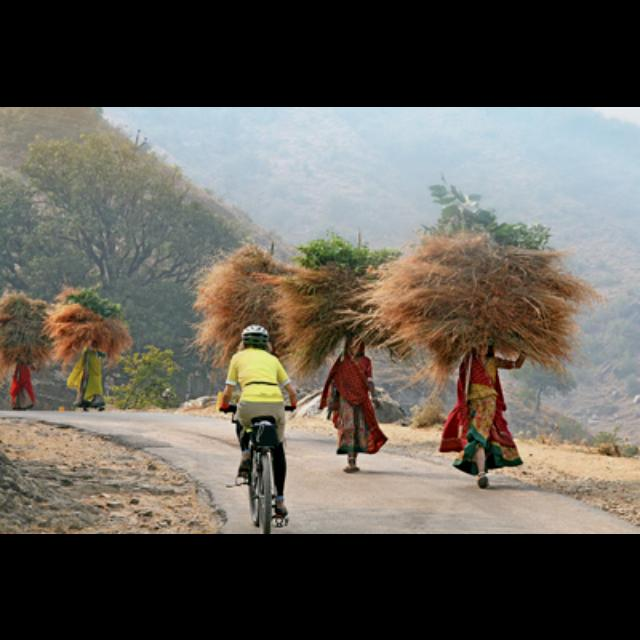With Helmet: (238, 320, 270, 350)
